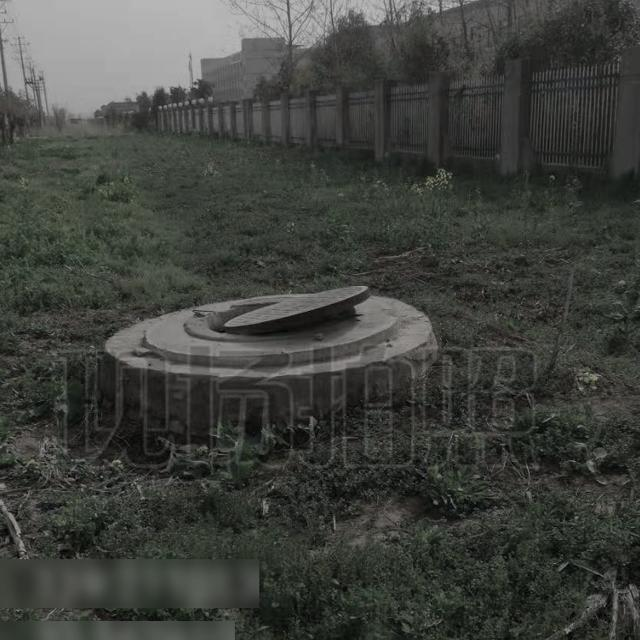uncovered: (146, 285, 404, 356)
